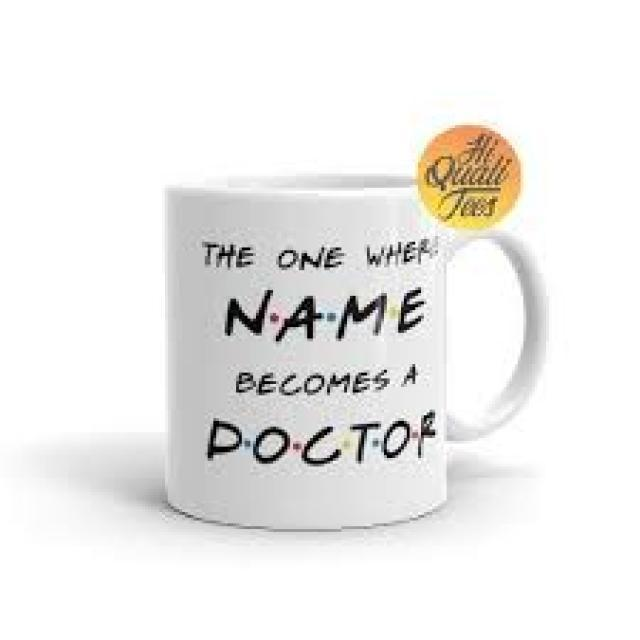taza: (119, 148, 560, 540)
